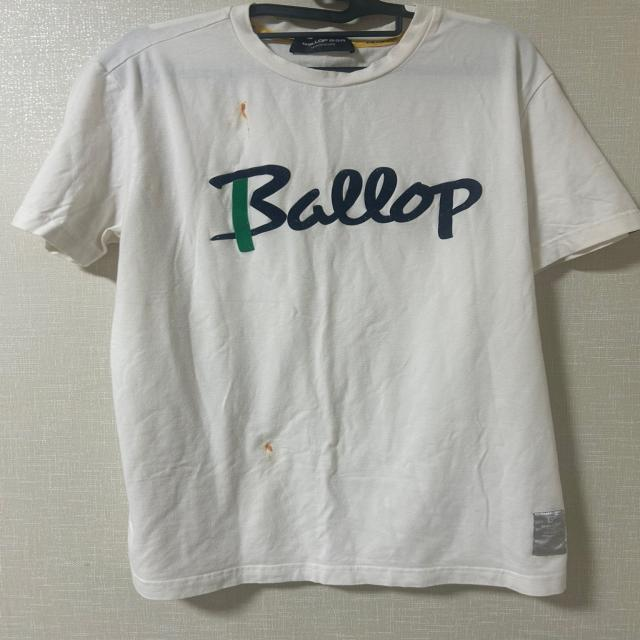stain: (262, 438, 282, 468), (238, 100, 258, 122)
